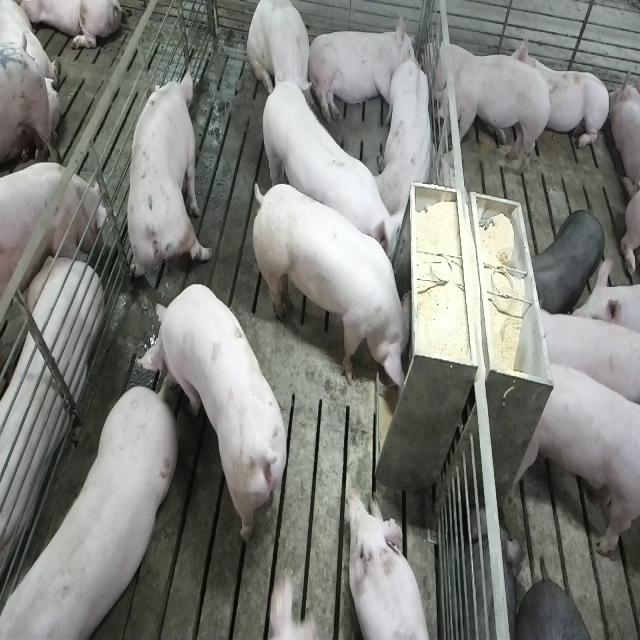Feeding: (255, 176, 419, 406)
Lateral_lying: (0, 231, 103, 593), (306, 15, 418, 128)
Sitting: (376, 50, 436, 214), (247, 1, 315, 115)
Standing: (0, 383, 175, 640), (142, 288, 292, 550), (505, 362, 639, 562), (258, 78, 400, 265), (125, 65, 209, 292), (428, 46, 554, 182), (0, 162, 106, 312), (525, 303, 637, 420), (527, 205, 604, 312)
Sternal_lying: (348, 489, 432, 640), (515, 31, 610, 153), (266, 570, 328, 640)
